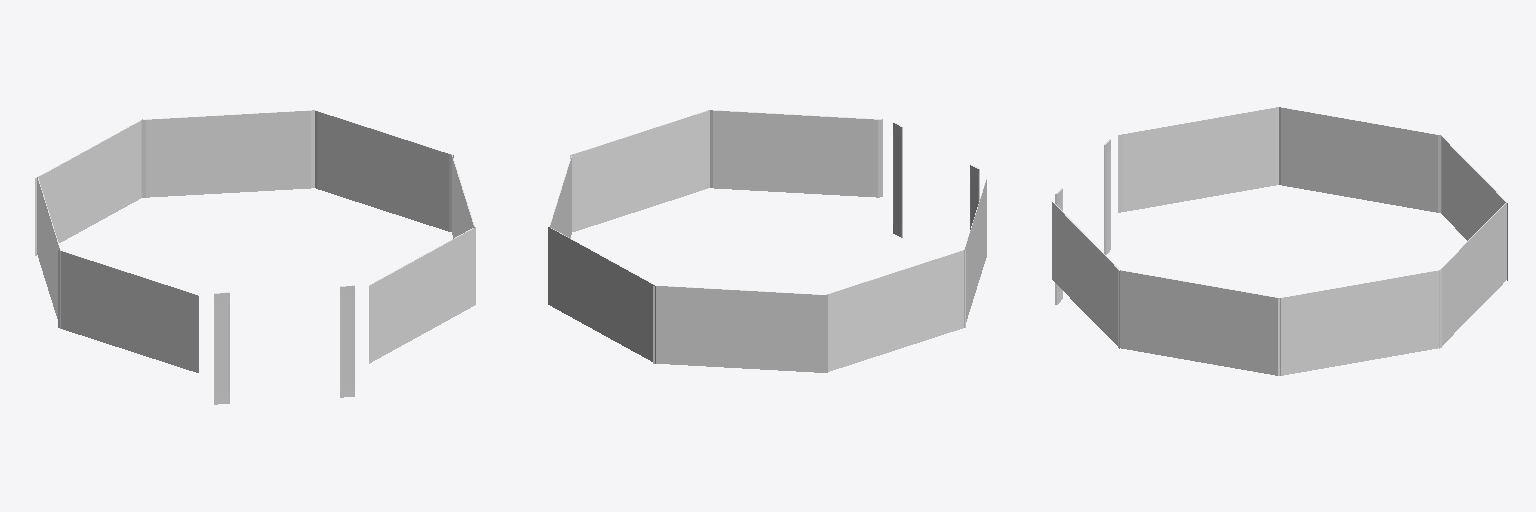
The picture shows the model from 3 angles: view 1: azimuth 30°, elevation 25°; view 2: azimuth 150°, elevation 25°; view 3: azimuth 270°, elevation 25°; orthographic projection.
Parts seen in each view (by area): view 1: ventanas:ventanas2, ventanas:marcoIzq, ventanas:marcoDer; view 2: ventanas:ventanas2, ventanas:marcoDer; view 3: ventanas:ventanas2, ventanas:marcoIzq.
Part boxes in pixels (x1,y1,x2,y2): ventanas:ventanas2: (35, 110, 475, 372); ventanas:marcoIzq: (214, 292, 229, 404); ventanas:marcoDer: (340, 285, 354, 397); ventanas:ventanas2: (548, 110, 986, 372); ventanas:marcoDer: (893, 122, 902, 237); ventanas:ventanas2: (1052, 107, 1507, 375); ventanas:marcoIzq: (1104, 139, 1110, 254).
Size of the model in its own units: 23.27 by 6.26 by 23.32.
Materials: 1 (1 with a texture image).